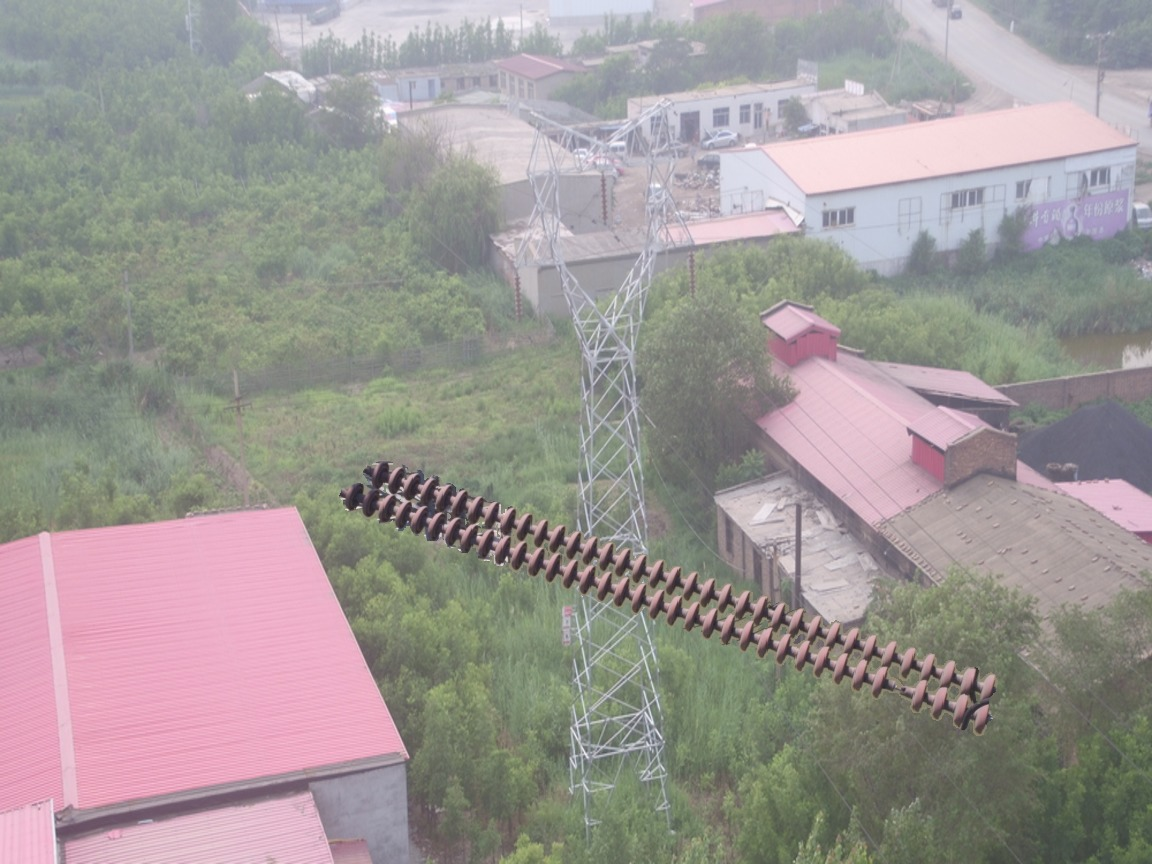defect: (867, 665, 934, 713)
